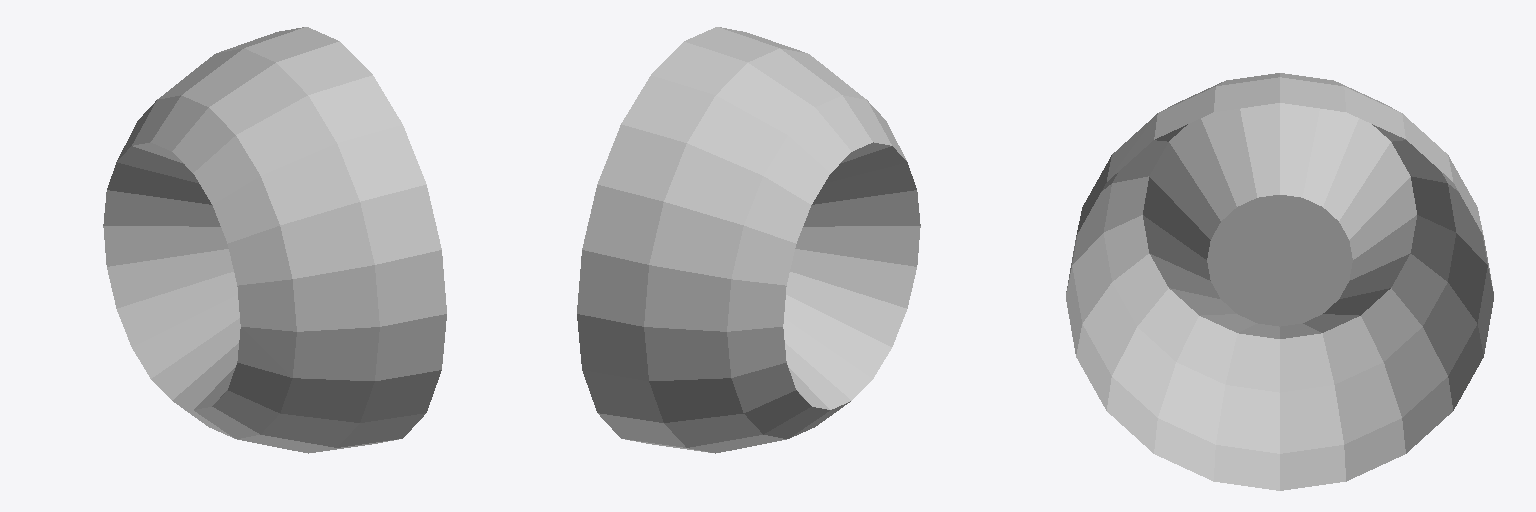
The model's file is PuzzlePieceEnd.obj.
3 views of the same model, side by side, from view 1: azimuth 30°, elevation 25°; view 2: azimuth 150°, elevation 25°; view 3: azimuth 270°, elevation 25° (orthographic).
Visible parts, largest first — view 1: PuzzlePieceEnd group1; view 2: PuzzlePieceEnd group1; view 3: PuzzlePieceEnd group1.
Part boxes in pixels (left/top/right/bottom): PuzzlePieceEnd group1: left=103, top=27, right=446, bottom=453; PuzzlePieceEnd group1: left=577, top=27, right=920, bottom=453; PuzzlePieceEnd group1: left=1066, top=73, right=1493, bottom=490.
Bounding box in the file's own units: 27.13 × 59.92 × 59.99.